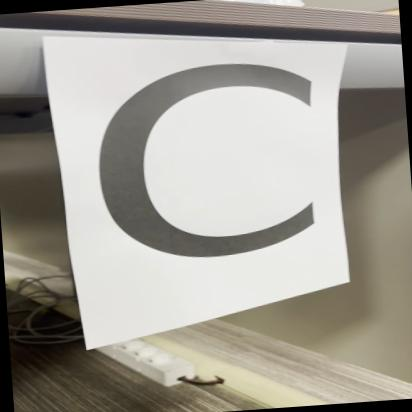seat: (48, 36, 346, 301)
